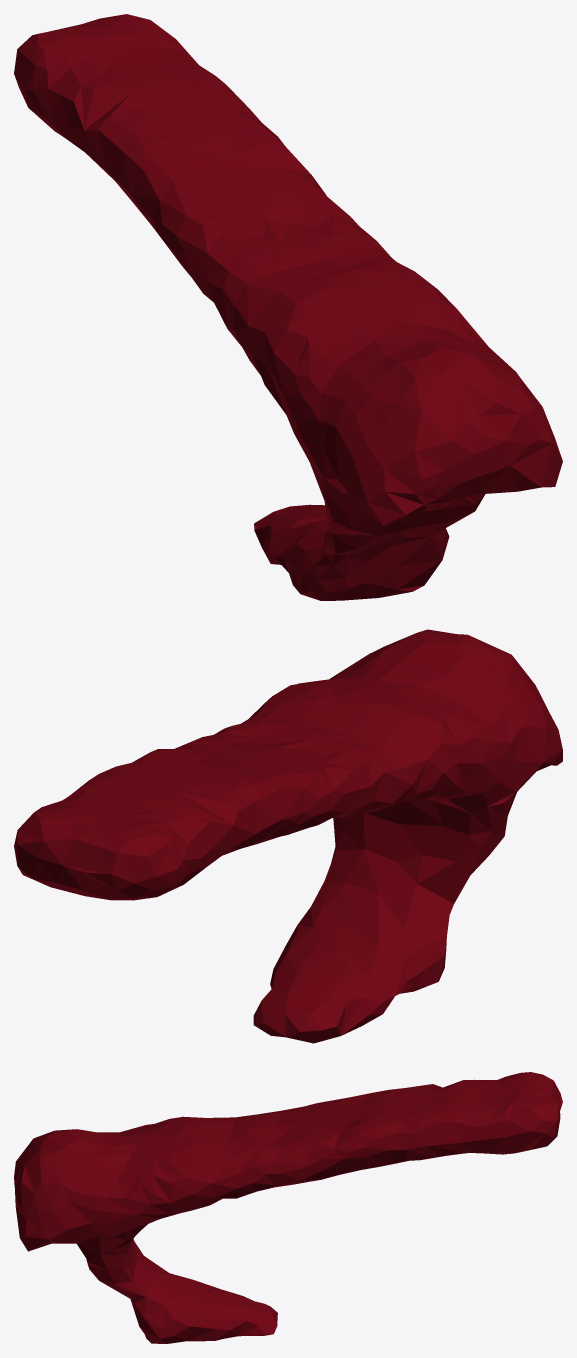
The model's file is 88-24a-area 24a of cortex-('0.4980', '0.0000', '0.0745').obj.
3 renders of one model, top to bottom at view 1: azimuth 30°, elevation 25°; view 2: azimuth 150°, elevation 25°; view 3: azimuth 270°, elevation 25°, orthographic. The views are drawn at different scales.
Size of the model in its own units: 36.15 by 61.57 by 126.
